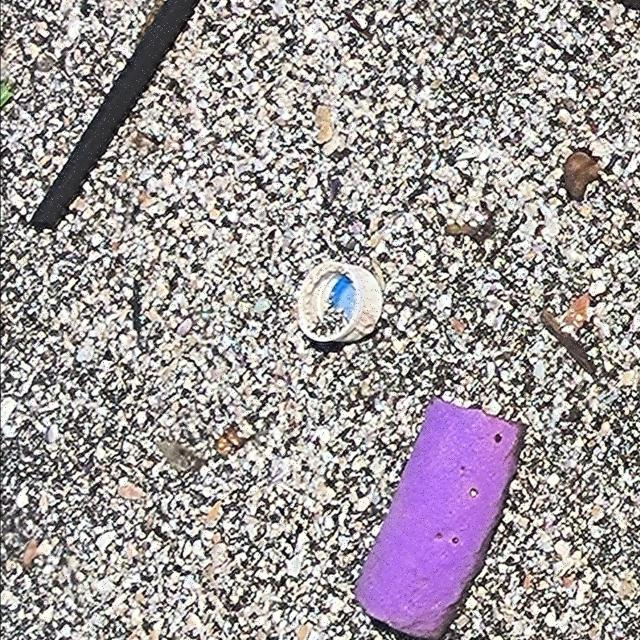plastic_waste: (28, 1, 199, 233), (297, 261, 384, 347)
